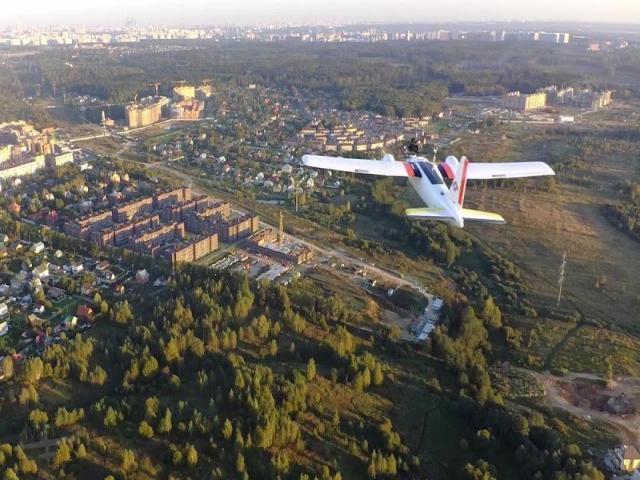hedef: (288, 134, 568, 246)
